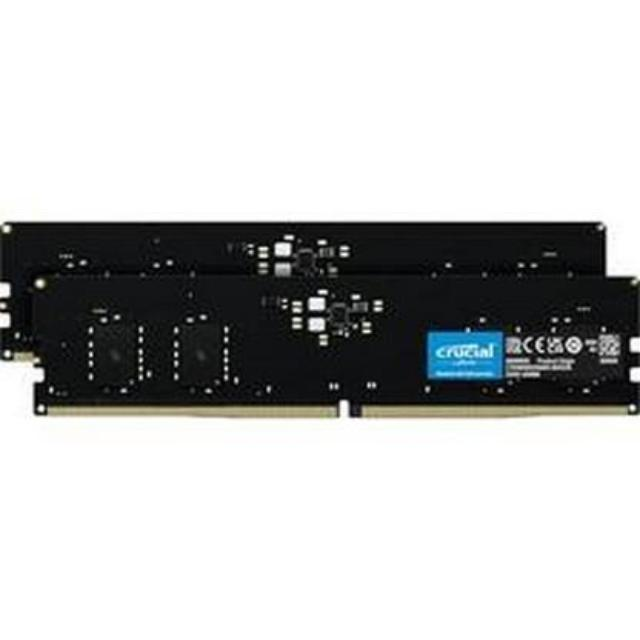RAM: (0, 209, 640, 423)
